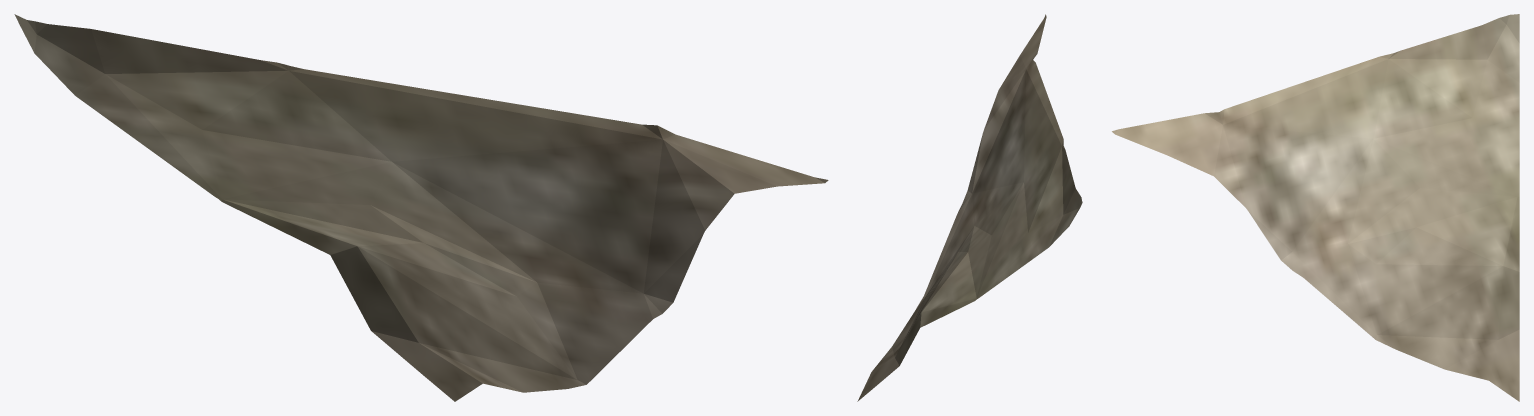
The picture shows the model from 3 angles, left to right: view 1: azimuth 30°, elevation 25°; view 2: azimuth 150°, elevation 25°; view 3: azimuth 270°, elevation 25°; orthographic projection. The views are drawn at different scales.
Bounding box in the file's own units: 0.9587 × 1.03 × 1.41.
Materials: 1 (1 with a texture image).
